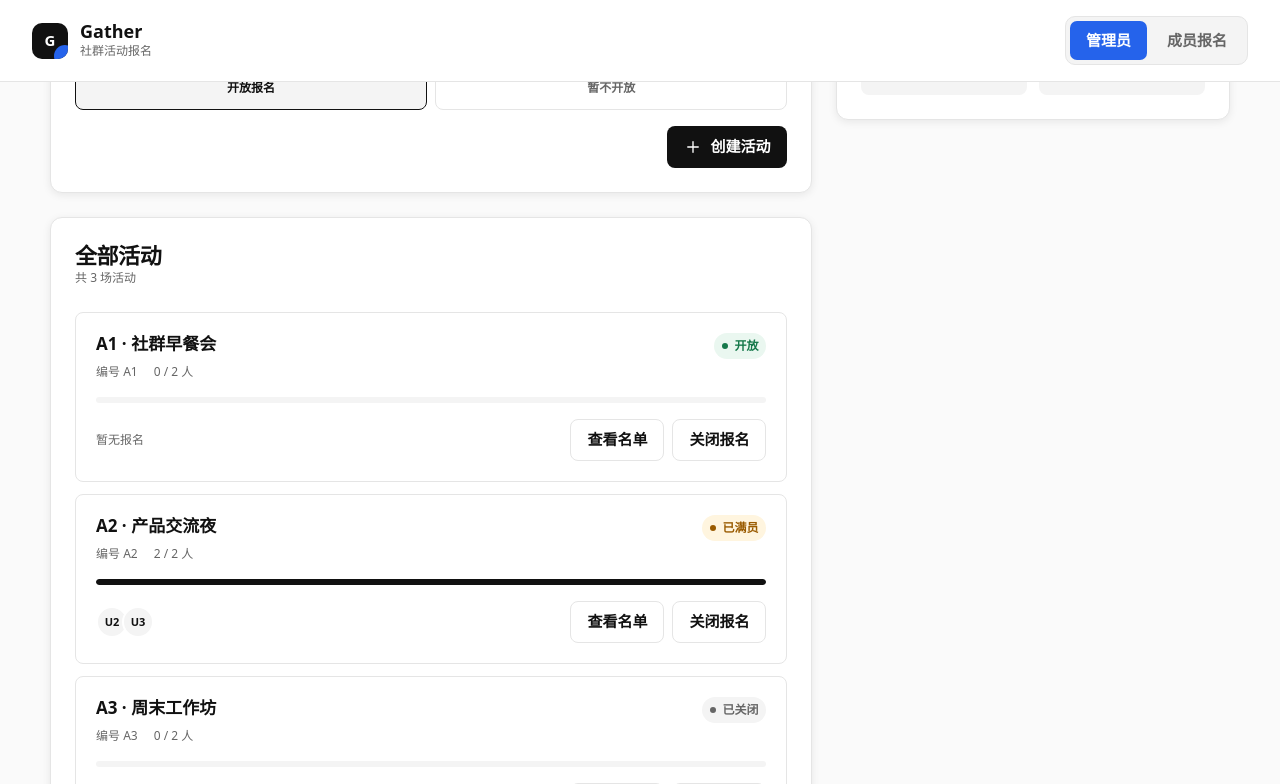
Test: 管理员关键交互 › 切换活动开放状态后持久化并更新操作
(page scrolled)
Click the 1st button "关闭报名" at (719, 440), box [672,420,766,461]
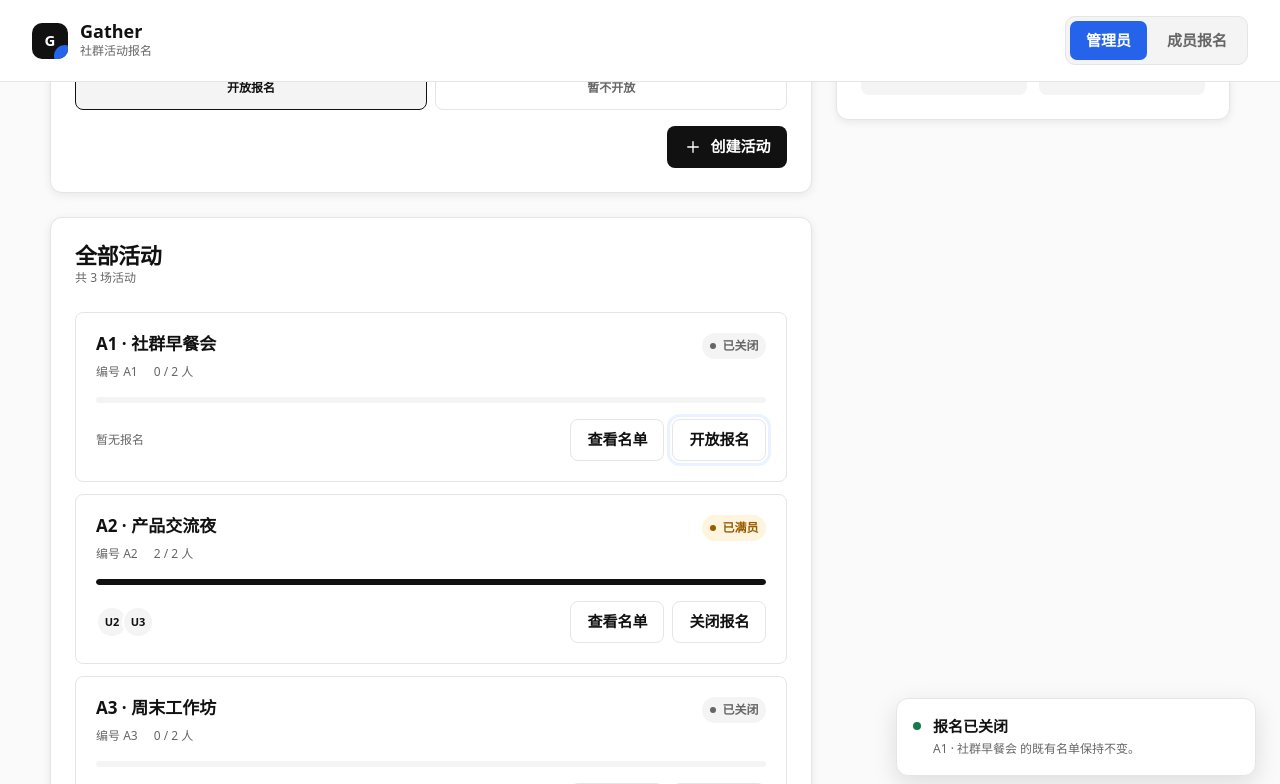
Expected: the 1st button "开放报名" is shown, [672,420,766,461]
Expected: the text "报名已关闭" is shown, [933,716,1008,736]
